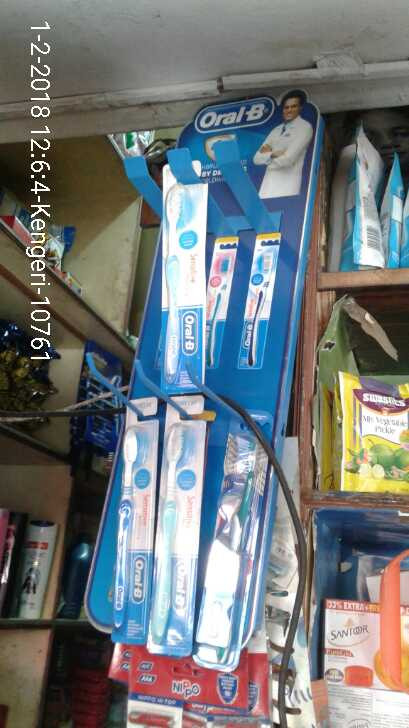oralb: (201, 437, 260, 662), (146, 429, 197, 643), (156, 176, 190, 369), (110, 432, 136, 631)
